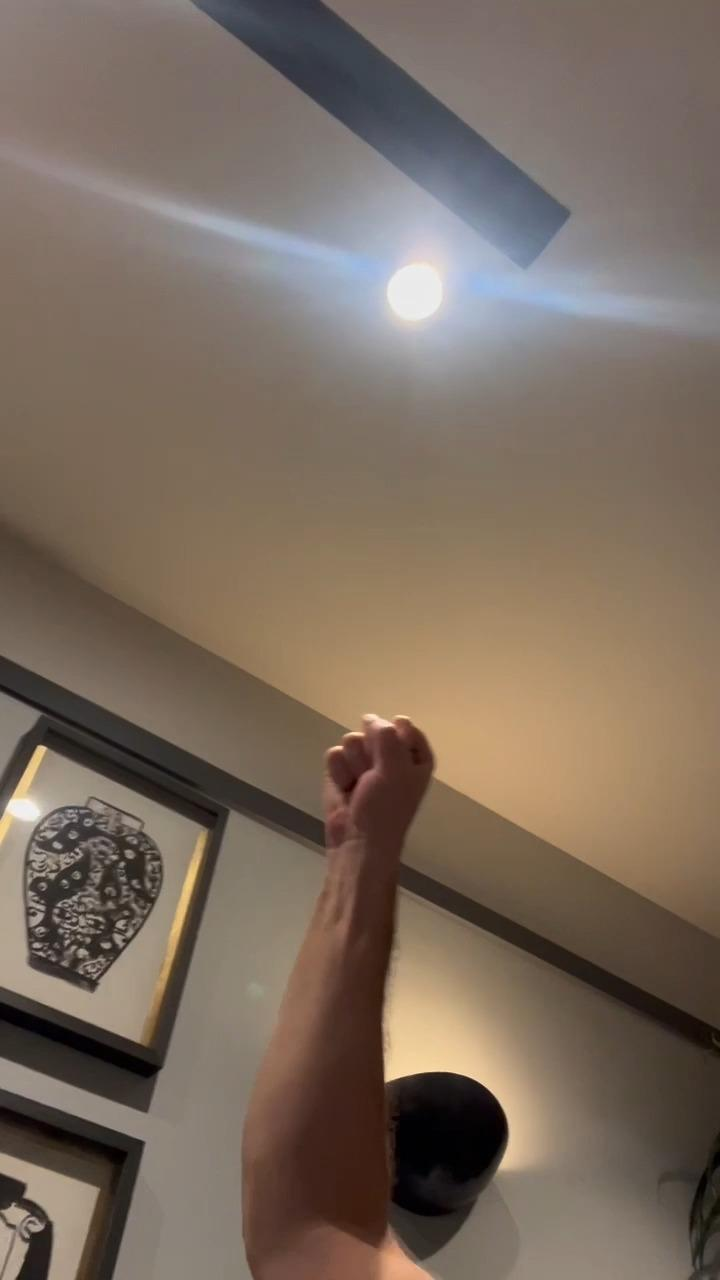Rock: (318, 710, 438, 848)
